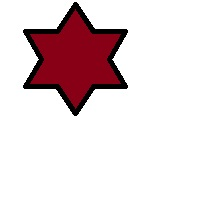star: (23, 2, 128, 117)
